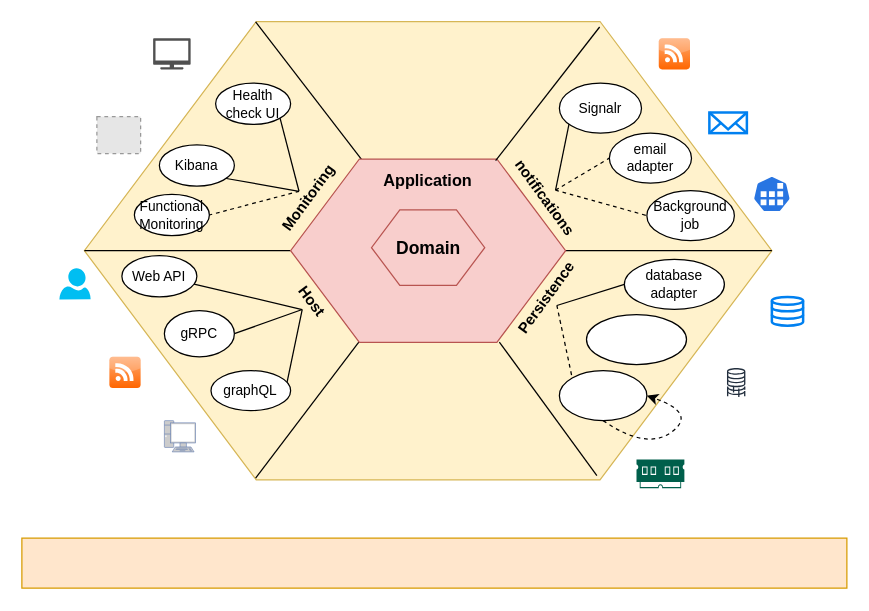
The diagram is 869 pixels wide and 611 high, and some of its shapes have lost their labels. Grey dashed boxes stand in for pictures. Here are the shapes that lost their labels. From the top down, the box of each, then its label:
(770, 295, 804, 326): DB
(585, 313, 686, 364): database migrator
(558, 369, 647, 421): Inmemory database
(717, 363, 754, 401): DB migration
(21, 537, 847, 588): Cross cutting layer
